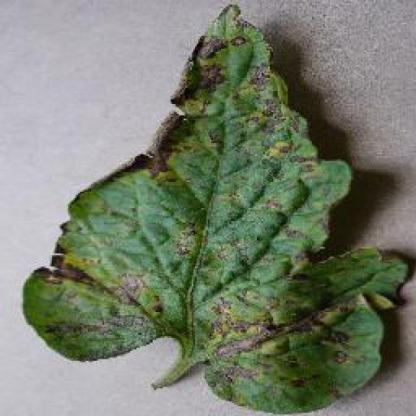Tomato_Blight: (23, 6, 410, 405)
